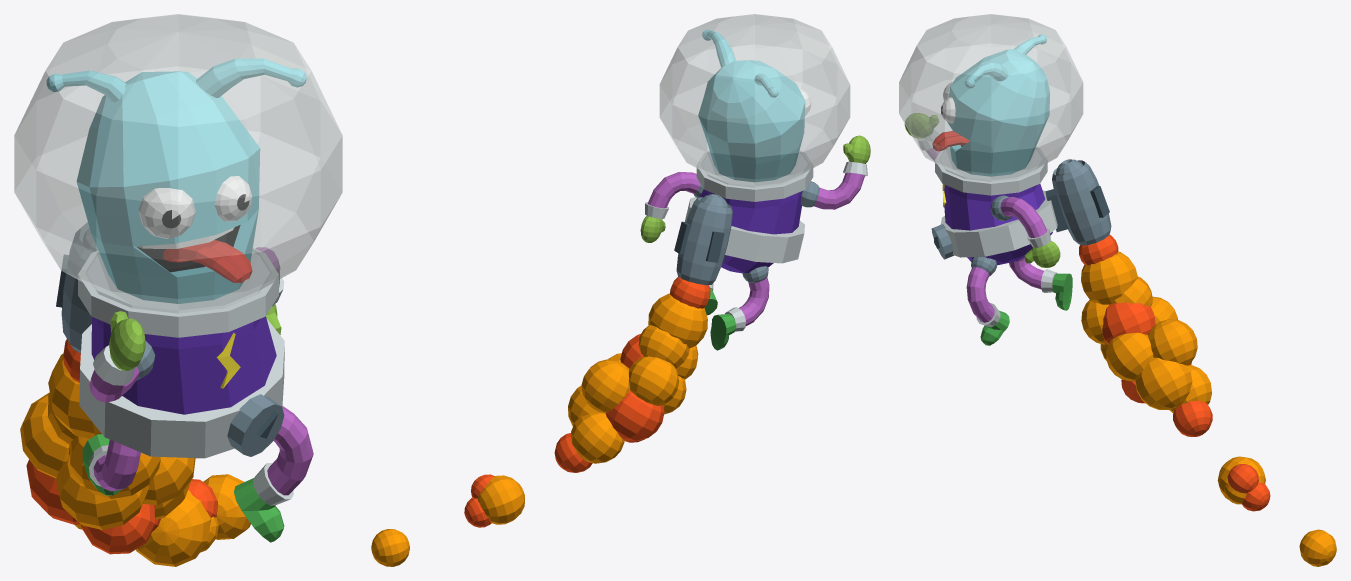
The model's file is alien_jetpack.glb.
The picture shows the model from 3 angles, left to right: view 1: azimuth 30°, elevation 25°; view 2: azimuth 150°, elevation 25°; view 3: azimuth 270°, elevation 25°; orthographic projection. The views are drawn at different scales.
Visible parts, largest first — view 1: group776529254, group295855011, group210554937, group726803888, group1550580269, group945161290, group1373989779, group1299507543, group424823514, group27326723, group2111366649, group916704955 (+5 smaller); view 2: group776529254, group210554937, group295855011, group726803888, group1550580269, group945161290, group1299507543, group424823514, group599028484; view 3: group776529254, group210554937, group295855011, group726803888, group1550580269, group945161290, group599028484, group1373989779, group424823514, group1299507543, group2111366649.
Boxes of the visible parts, x1,y1,x2,y2 form: group776529254: [14, 14, 342, 313]; group295855011: [76, 71, 260, 303]; group210554937: [20, 339, 250, 566]; group726803888: [56, 222, 284, 458]; group1550580269: [91, 316, 276, 414]; group945161290: [78, 248, 278, 337]; group1373989779: [234, 406, 313, 542]; group1299507543: [89, 311, 155, 402]; group424823514: [82, 434, 140, 495]; group27326723: [138, 188, 195, 238]; group2111366649: [196, 58, 306, 97]; group916704955: [163, 240, 252, 282]; group776529254: [659, 14, 850, 187]; group210554937: [371, 276, 710, 566]; group295855011: [698, 60, 805, 182]; group726803888: [674, 194, 804, 285]; group1550580269: [700, 189, 802, 273]; group945161290: [696, 151, 813, 201]; group1299507543: [800, 135, 870, 209]; group424823514: [710, 266, 769, 350]; group599028484: [640, 172, 703, 242]; group776529254: [899, 14, 1083, 181]; group210554937: [1079, 234, 1336, 566]; group295855011: [947, 49, 1049, 176]; group726803888: [931, 159, 1111, 259]; group1550580269: [944, 184, 1052, 265]; group945161290: [935, 147, 1047, 195]; group599028484: [990, 195, 1060, 267]; group1373989779: [966, 257, 1009, 345]; group424823514: [1009, 257, 1072, 310]; group1299507543: [904, 113, 939, 160]; group2111366649: [965, 62, 1008, 88].
Bounding box in the file's own units: 3.75 × 5.66 × 5.01.
